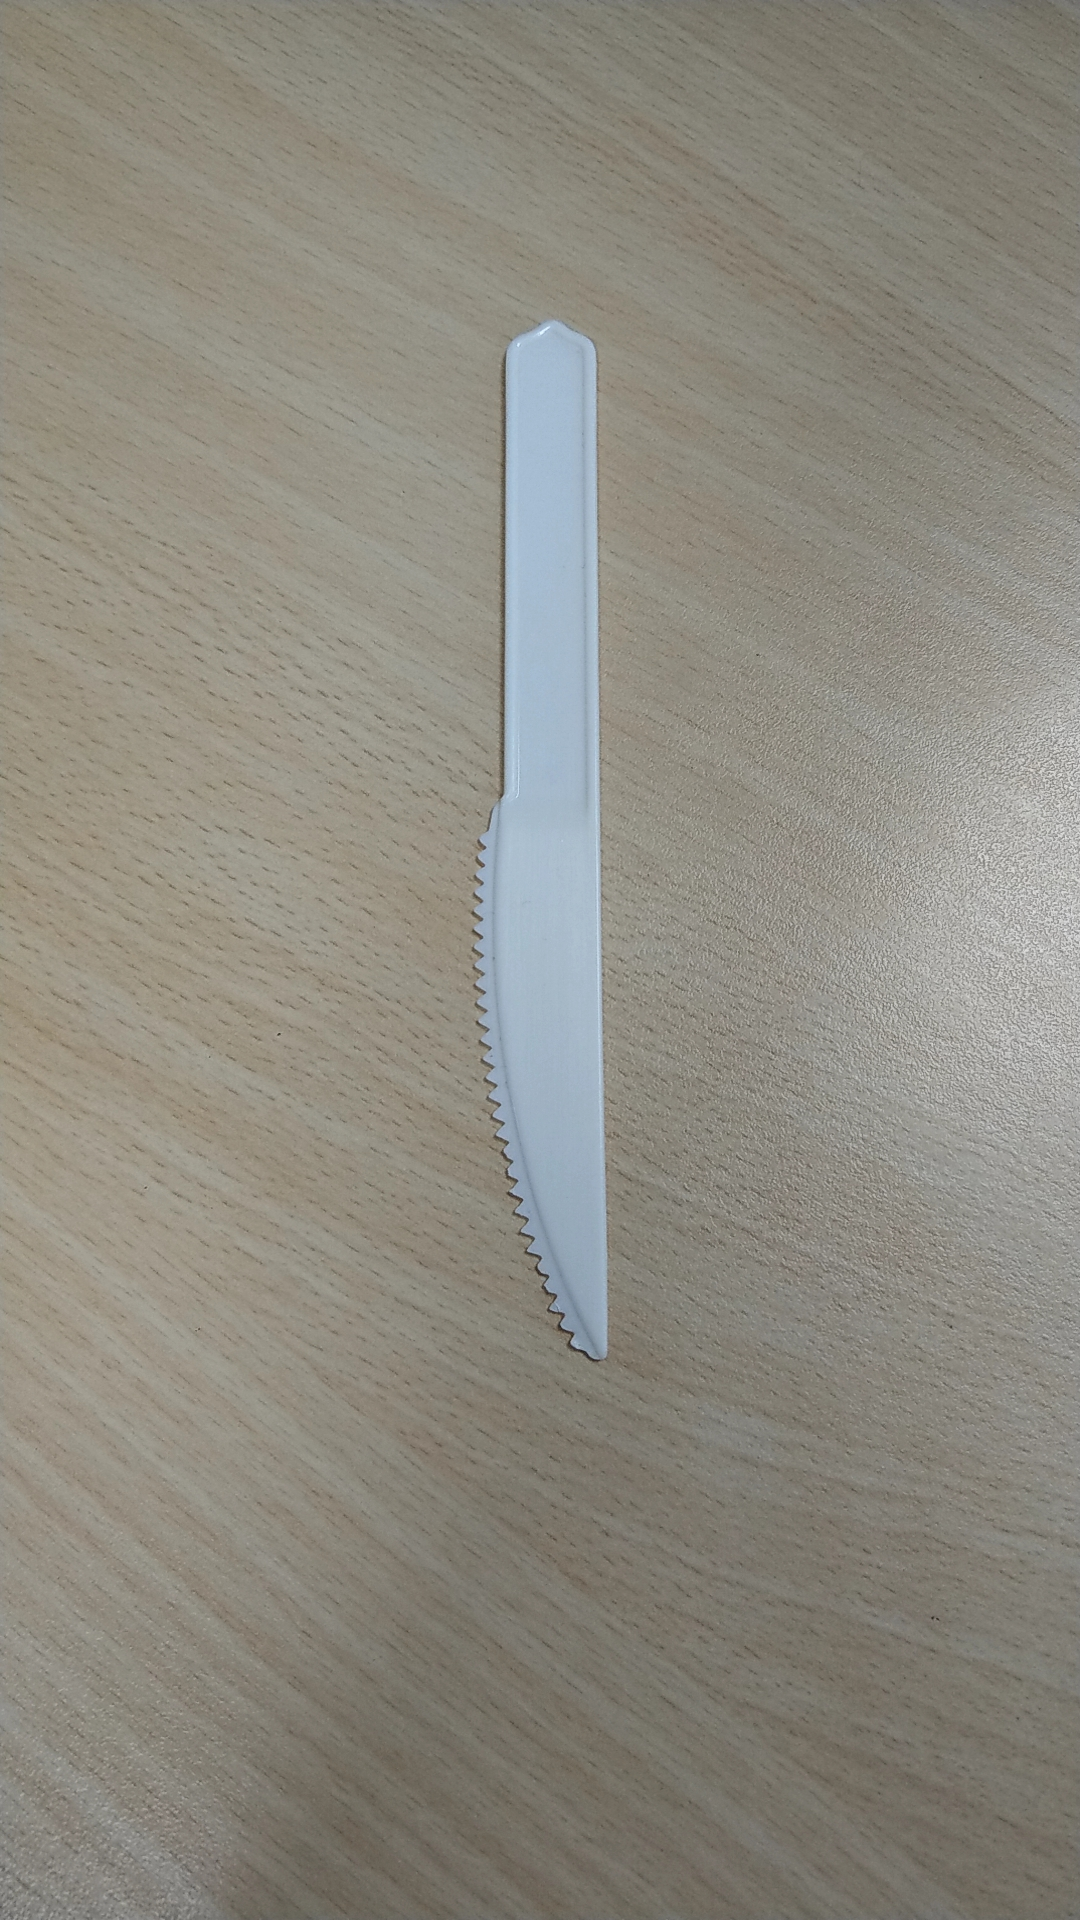knife: (444, 282, 641, 1382)
